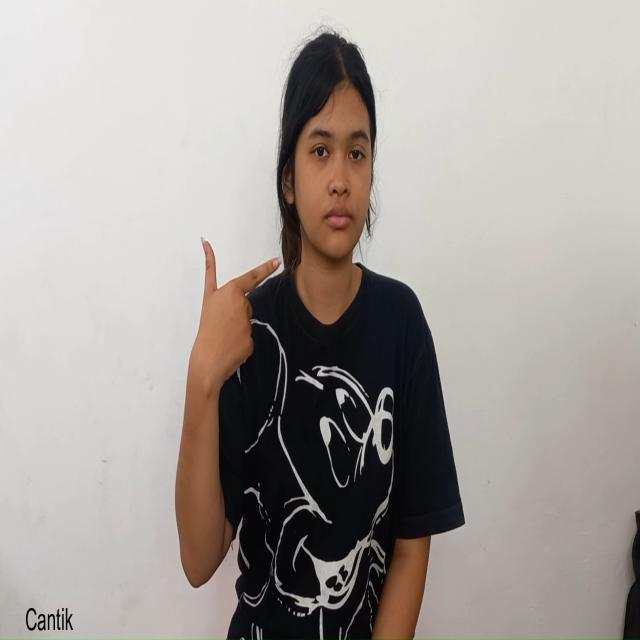Cantik -BISINDO-: (184, 29, 378, 404)
